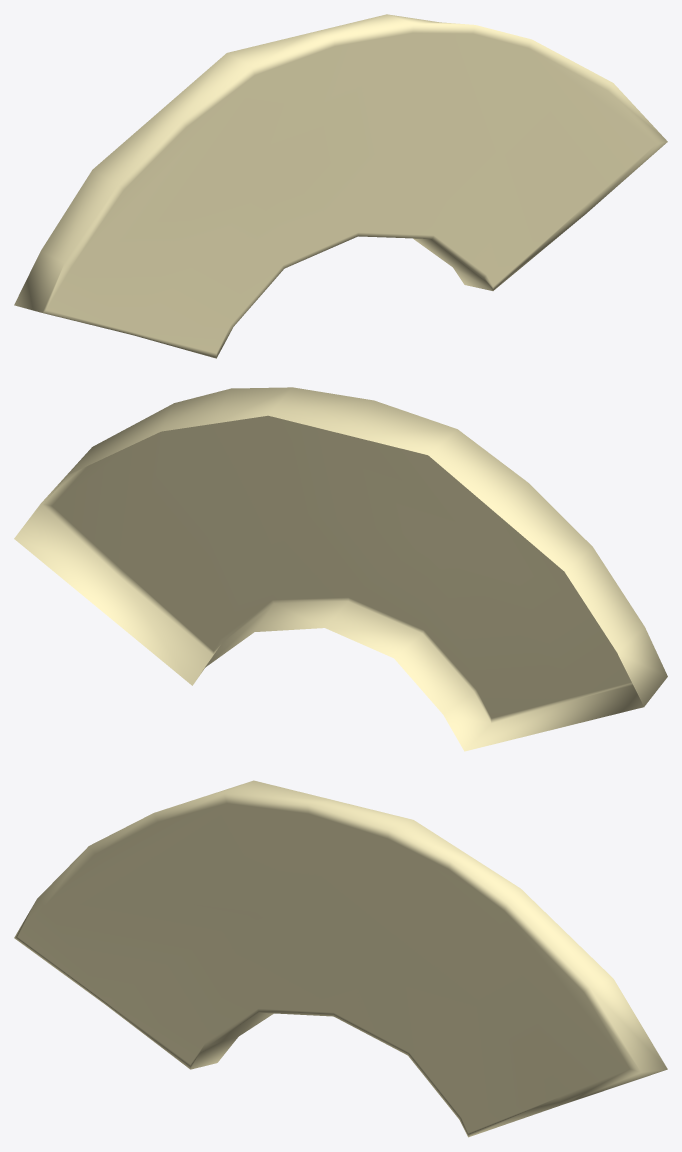
Rendered from ui_radialMenu_3_top.glb.
The picture shows the model from 3 angles, top to bottom: view 1: azimuth 30°, elevation 25°; view 2: azimuth 150°, elevation 25°; view 3: azimuth 330°, elevation 25°; orthographic projection.
Visible parts, largest first — view 1: main3_top; view 2: main3_top; view 3: main3_top.
Part boxes in pixels (x1,y1,x2,y2): main3_top: (14, 14, 667, 358); main3_top: (14, 387, 667, 751); main3_top: (14, 780, 667, 1137).
Bounding box in the file's own units: 1.74 × 0.8024 × 0.1329.
